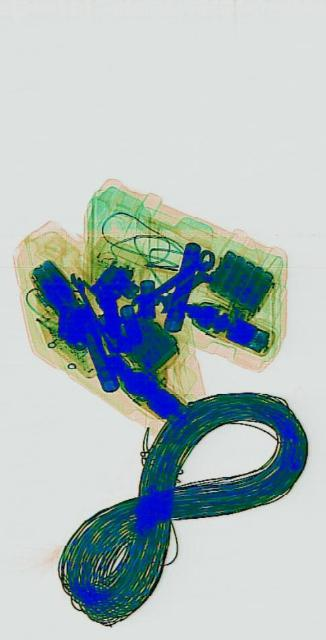Wrench: (128, 240, 216, 320), (67, 264, 116, 358), (154, 256, 214, 316)
